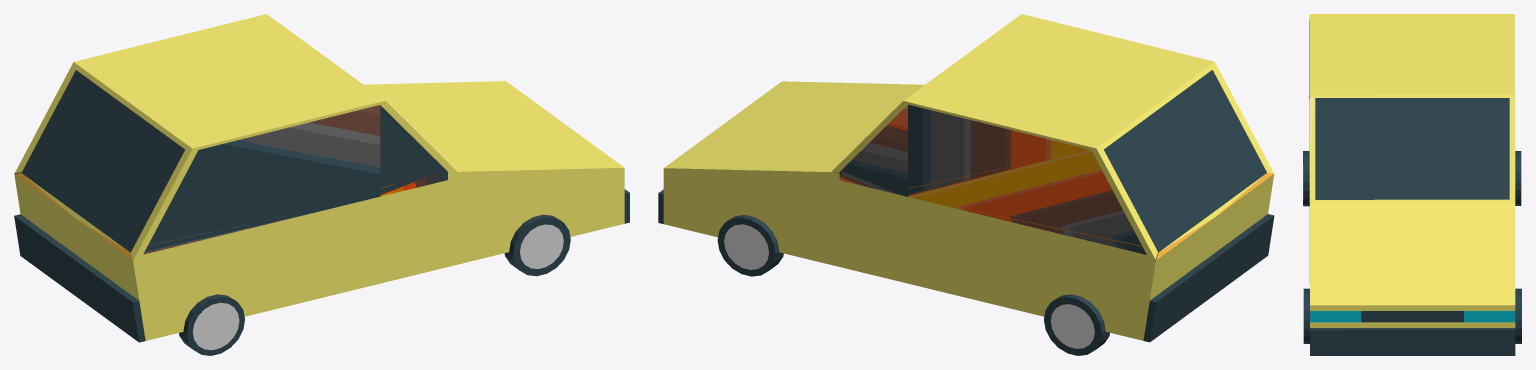
The model's file is car_3_1.dae.
3 views of the same model, side by side, from view 1: azimuth 30°, elevation 25°; view 2: azimuth 150°, elevation 25°; view 3: azimuth 270°, elevation 25° (orthographic). The views are drawn at different scales.
Visible parts, largest first — view 1: CAR_03.004; view 2: CAR_03.004; view 3: CAR_03.004.
Part boxes in pixels (x1,y1,x2,y2): CAR_03.004: (14, 14, 629, 355); CAR_03.004: (658, 14, 1274, 355); CAR_03.004: (1303, 14, 1521, 355).
Bounding box in the file's own units: 4.5 × 1.98 × 1.81.
1 material, 1 textured.
